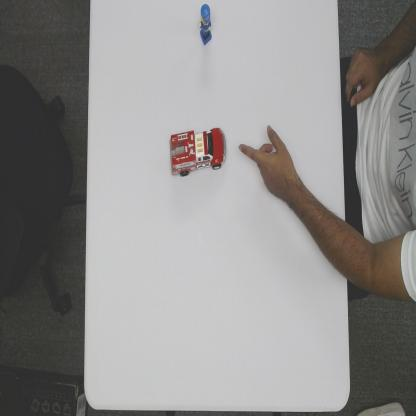Arm: (291, 180, 345, 275)
Firetruck: (168, 126, 228, 179)
Hand: (238, 121, 295, 205)
